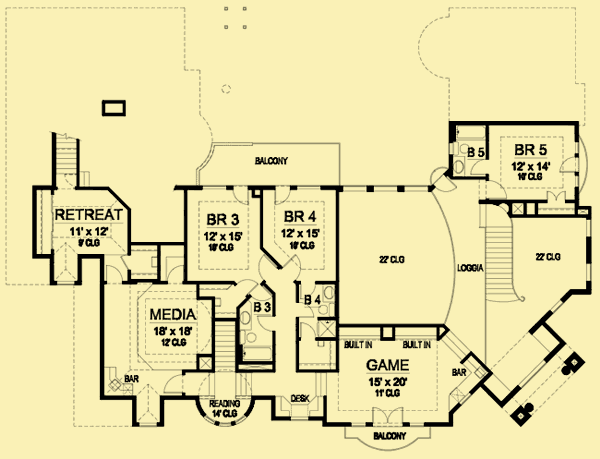door: (370, 405, 405, 426), (160, 373, 187, 396), (257, 253, 277, 282), (283, 254, 301, 282), (434, 174, 459, 194), (273, 184, 292, 208), (487, 181, 510, 200), (232, 183, 250, 207), (256, 314, 276, 335), (166, 262, 185, 284), (468, 159, 490, 177), (102, 264, 122, 283), (238, 278, 260, 295), (558, 154, 575, 175), (296, 301, 315, 319), (298, 320, 314, 341), (543, 190, 567, 204)
large_sink: (238, 329, 259, 345), (452, 140, 474, 155), (317, 302, 335, 316)
small_sink: (239, 304, 252, 330)
stairs: (482, 203, 527, 305), (50, 131, 82, 190), (212, 316, 238, 375)
windows: (339, 182, 431, 195), (202, 413, 250, 429), (584, 216, 593, 285), (243, 345, 274, 364), (54, 280, 77, 288)
